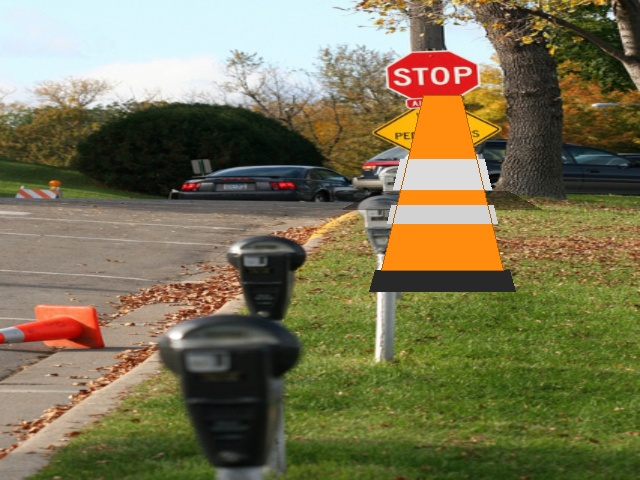traffic-cone: (369, 95, 515, 291)
